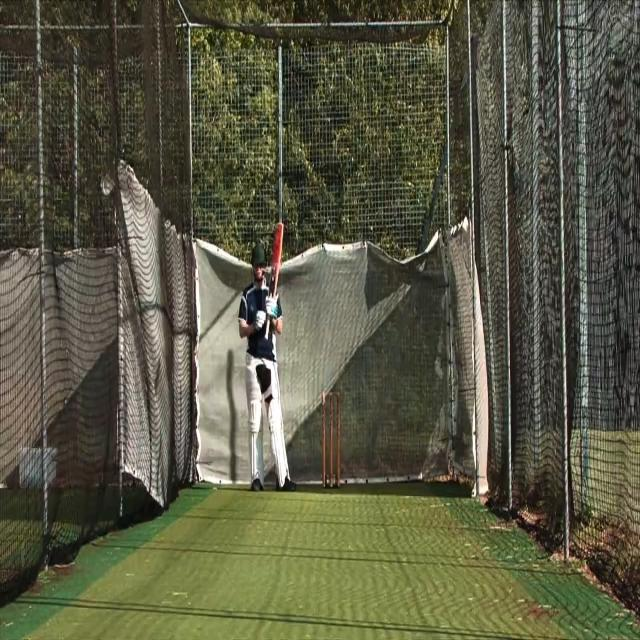batsman: (236, 219, 298, 496)
